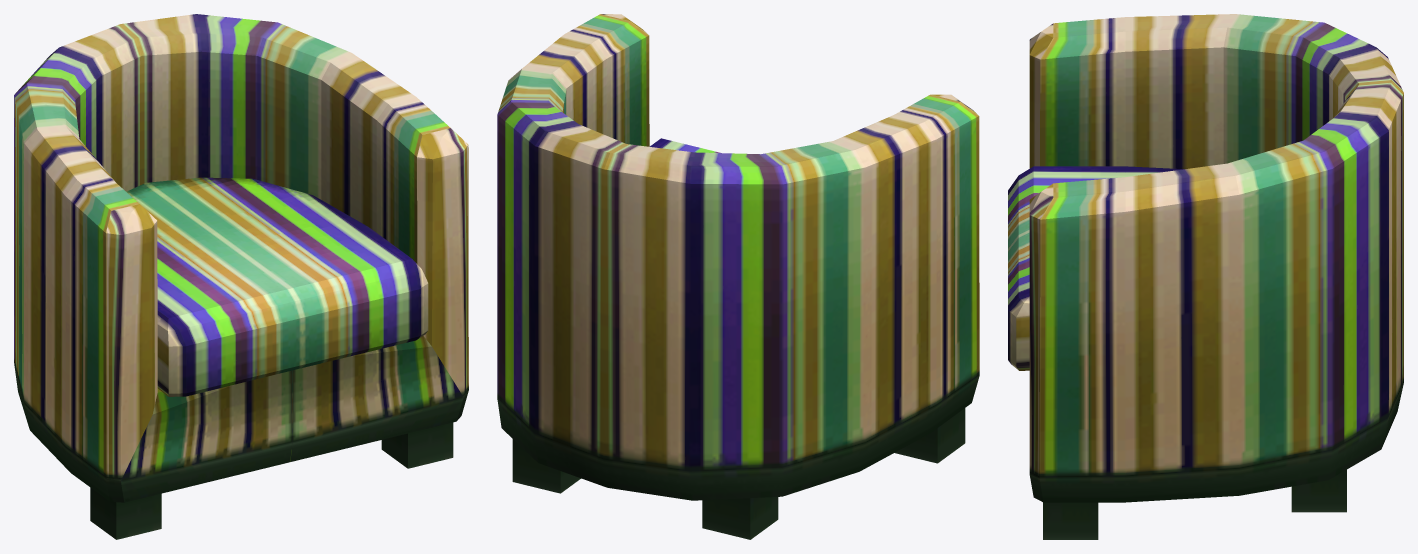
Rendered from furni_0200613_02.FBX.
3 renders of one model, left to right at view 1: azimuth 30°, elevation 25°; view 2: azimuth 150°, elevation 25°; view 3: azimuth 270°, elevation 25°, orthographic. The views are drawn at different scales.
Visible parts, largest first — view 1: furni_0200613_02; view 2: furni_0200613_02; view 3: furni_0200613_02.
Boxes of the visible parts, <box> form: furni_0200613_02: <box>14,14,468,539</box>; furni_0200613_02: <box>497,14,979,539</box>; furni_0200613_02: <box>1008,14,1403,539</box>.
Size of the model in its own units: 80 by 74.49 by 71.76.
1 material, 1 textured.
